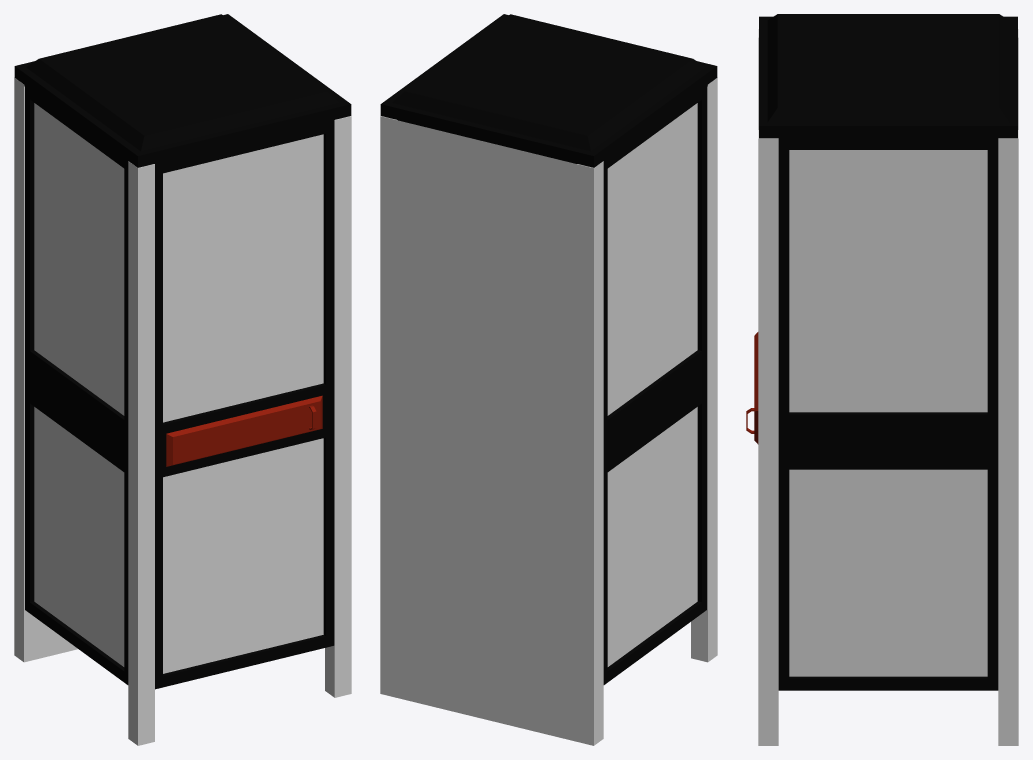
The model's file is PhoneBooth.fbx.
3 views of the same model, side by side, from view 1: azimuth 30°, elevation 25°; view 2: azimuth 150°, elevation 25°; view 3: azimuth 270°, elevation 25° (orthographic). The views are drawn at different scales.
Visible parts, largest first — view 1: PhoneBooth, door; view 2: PhoneBooth; view 3: PhoneBooth, door.
Boxes of the visible parts, x1,y1,x2,y2 form: PhoneBooth: (14, 14, 351, 745); door: (155, 121, 334, 689); PhoneBooth: (380, 14, 717, 745); PhoneBooth: (758, 14, 1018, 745); door: (746, 332, 758, 444).
Bounding box in the file's own units: 86.66 × 232 × 91.05.
